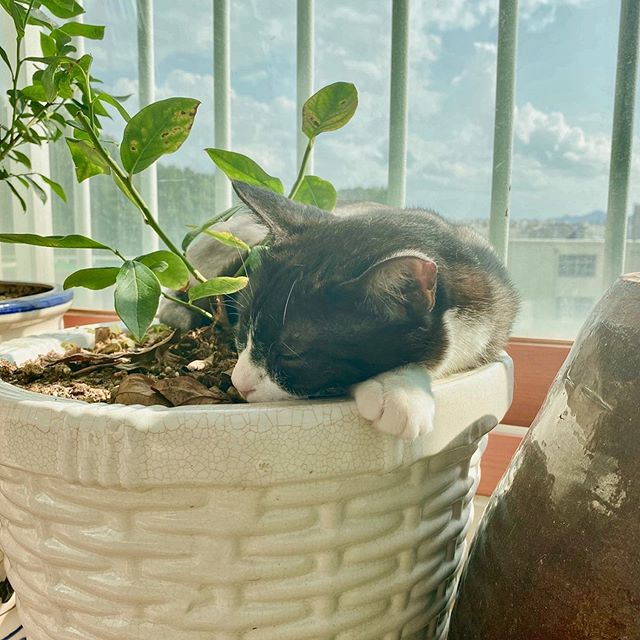cat: (217, 172, 480, 435)
